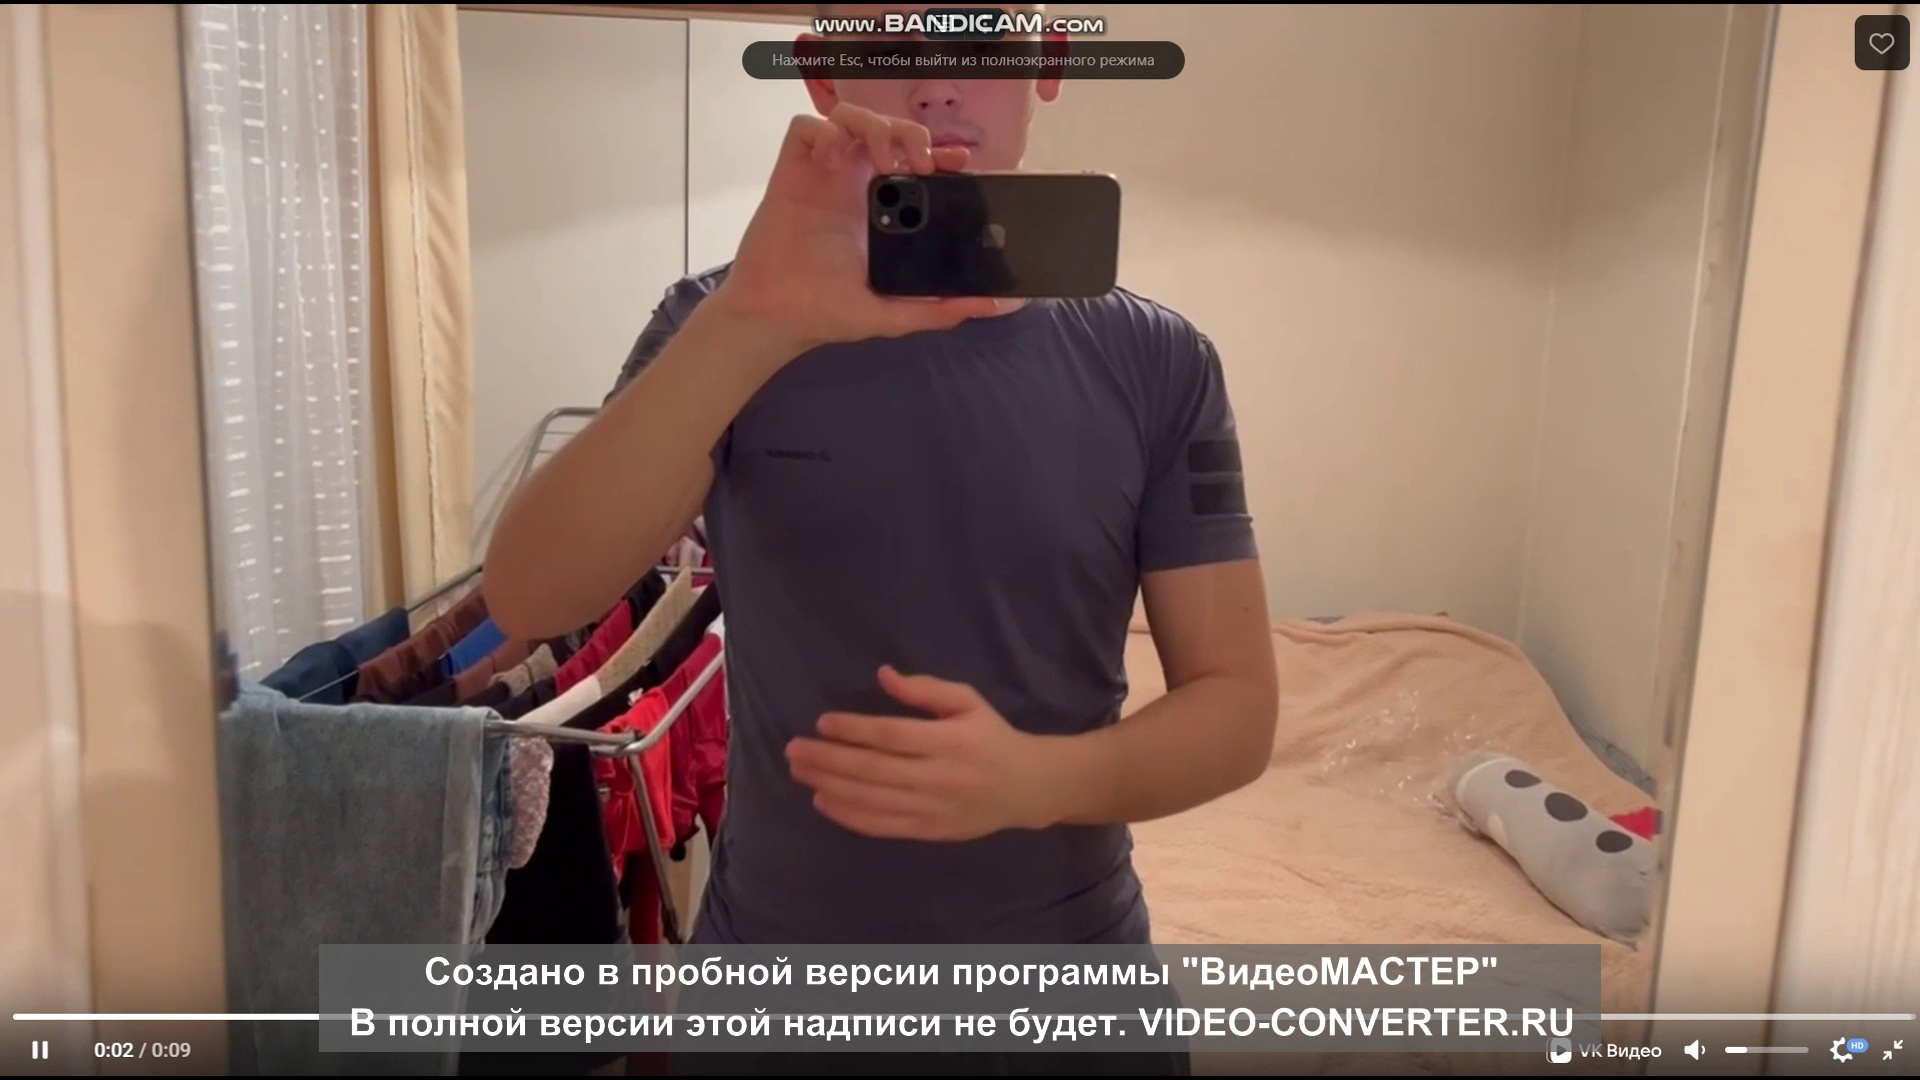Кисть: (779, 665, 1040, 847)
